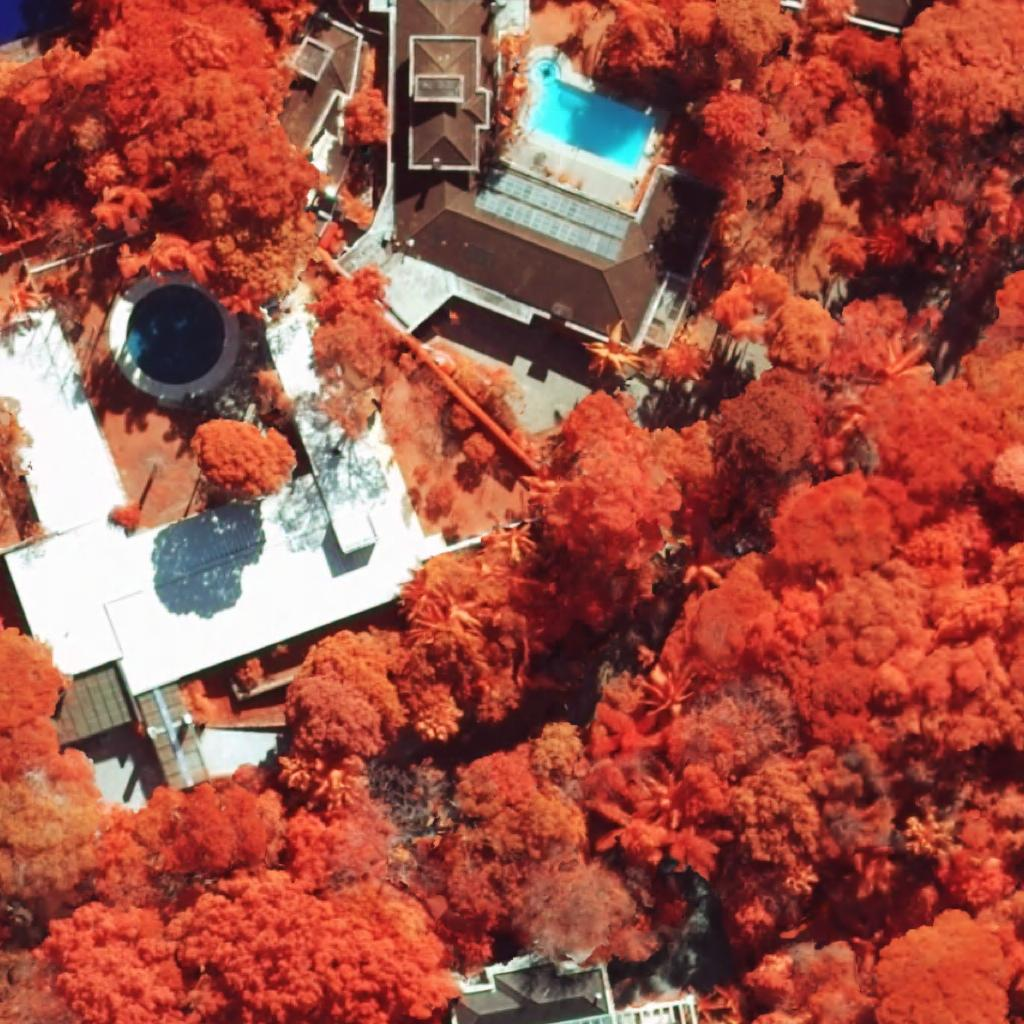pool: (526, 56, 656, 172), (125, 284, 226, 387)
